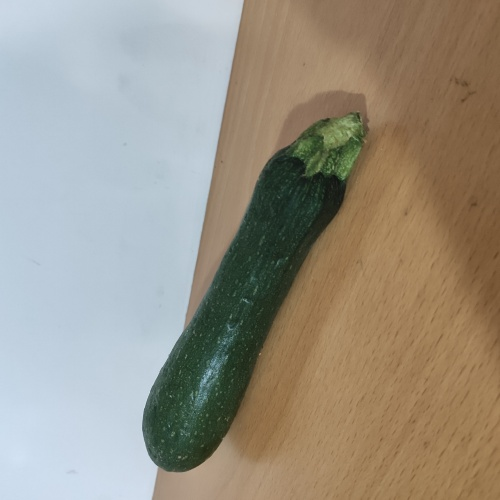zucchine: (142, 103, 371, 471)
